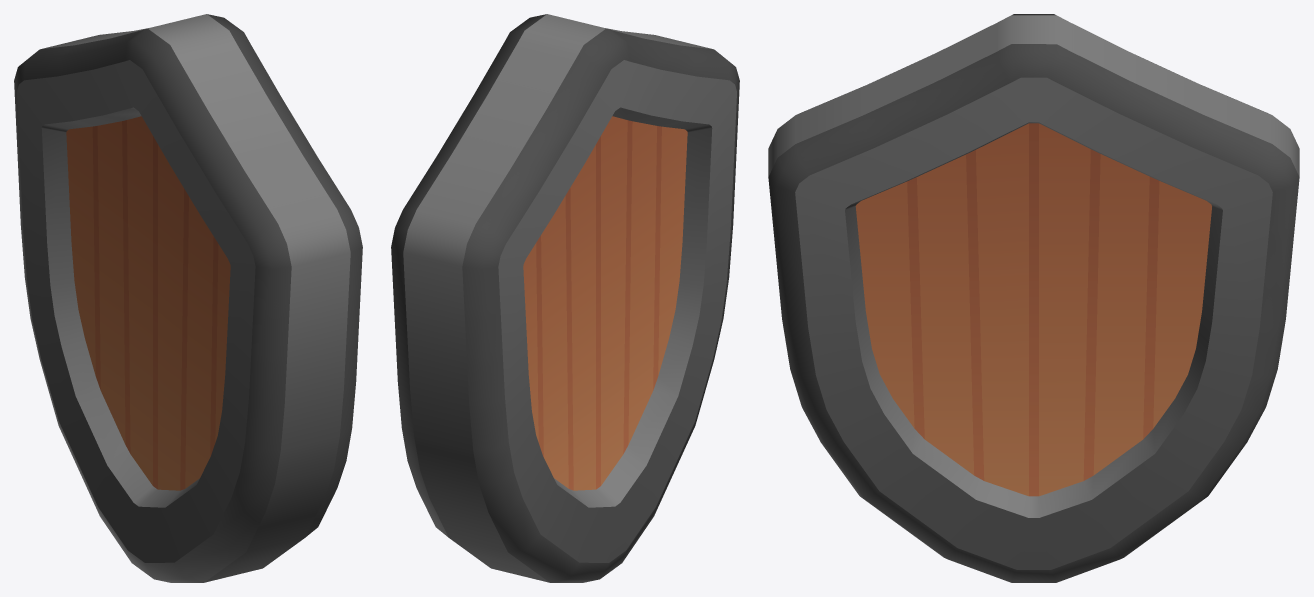
Rendered from Shield_V1_00.fbx.
3 renders of one model, left to right at view 1: azimuth 30°, elevation 25°; view 2: azimuth 150°, elevation 25°; view 3: azimuth 270°, elevation 25°, orthographic.
Visible parts, largest first — view 1: Shield_V1_00; view 2: Shield_V1_00; view 3: Shield_V1_00.
Boxes of the visible parts, x1,y1,x2,y2 form: Shield_V1_00: (14,14,362,582); Shield_V1_00: (391,14,739,582); Shield_V1_00: (768,14,1299,582).
Bounding box in the file's own units: 8.29 × 40.7 × 36.44.
